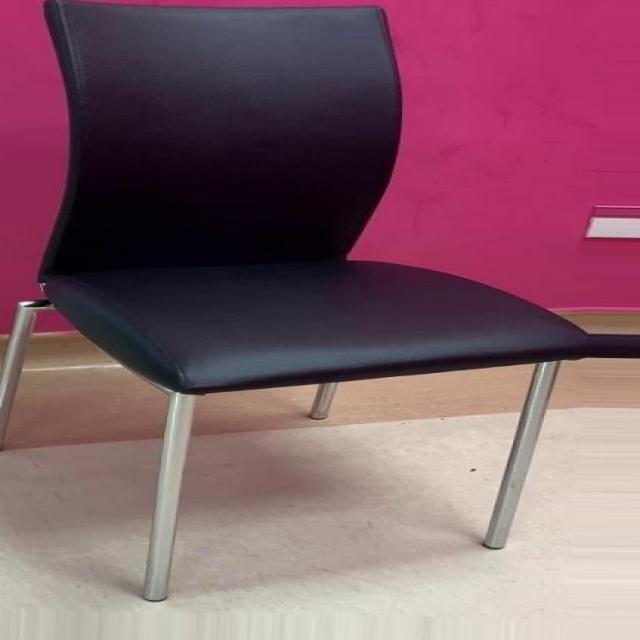Chair: (3, 1, 579, 606)
